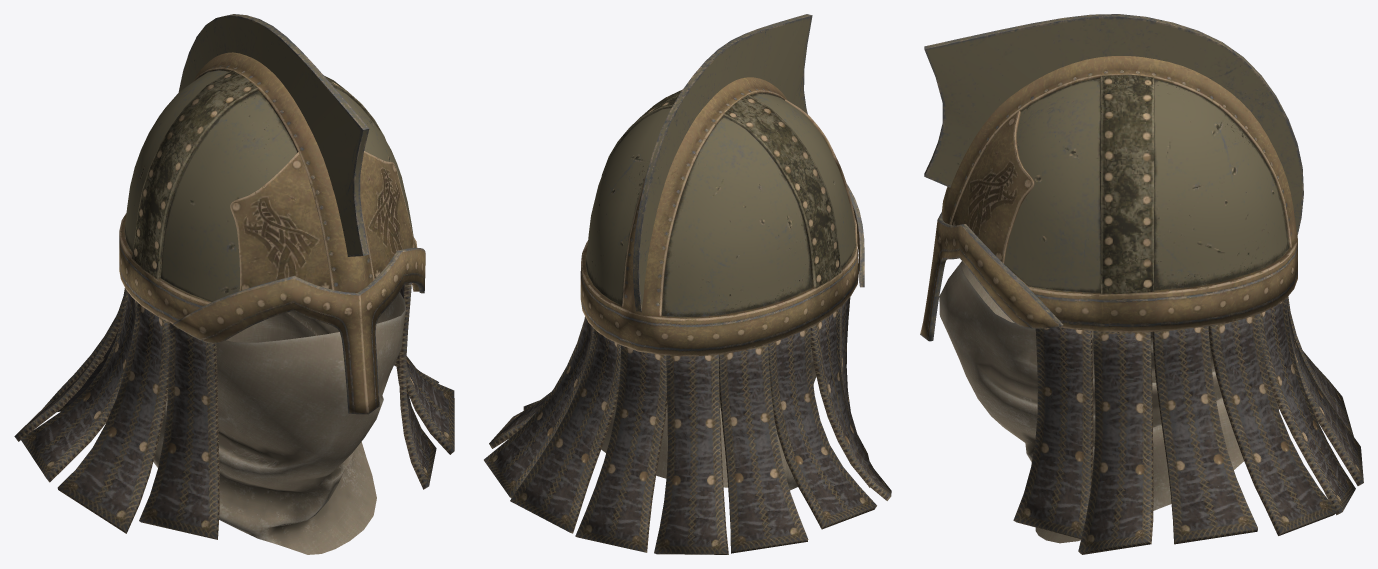
The model's file is dunland_wulf_helmet_elite_c.fbx.
3 renders of one model, left to right at view 1: azimuth 30°, elevation 25°; view 2: azimuth 150°, elevation 25°; view 3: azimuth 270°, elevation 25°, orthographic. The views are drawn at different scales.
Visible parts, largest first — view 1: dunland_wulf_helmet_elite_c; view 2: dunland_wulf_helmet_elite_c; view 3: dunland_wulf_helmet_elite_c.
Boxes of the visible parts, left/top/right/bottom form: dunland_wulf_helmet_elite_c: left=14, top=14, right=454, bottom=554; dunland_wulf_helmet_elite_c: left=484, top=14, right=891, bottom=554; dunland_wulf_helmet_elite_c: left=920, top=14, right=1363, bottom=554.
Bounding box in the file's own units: 0.3247 × 0.3109 × 0.3904.
1 material, 1 textured.
